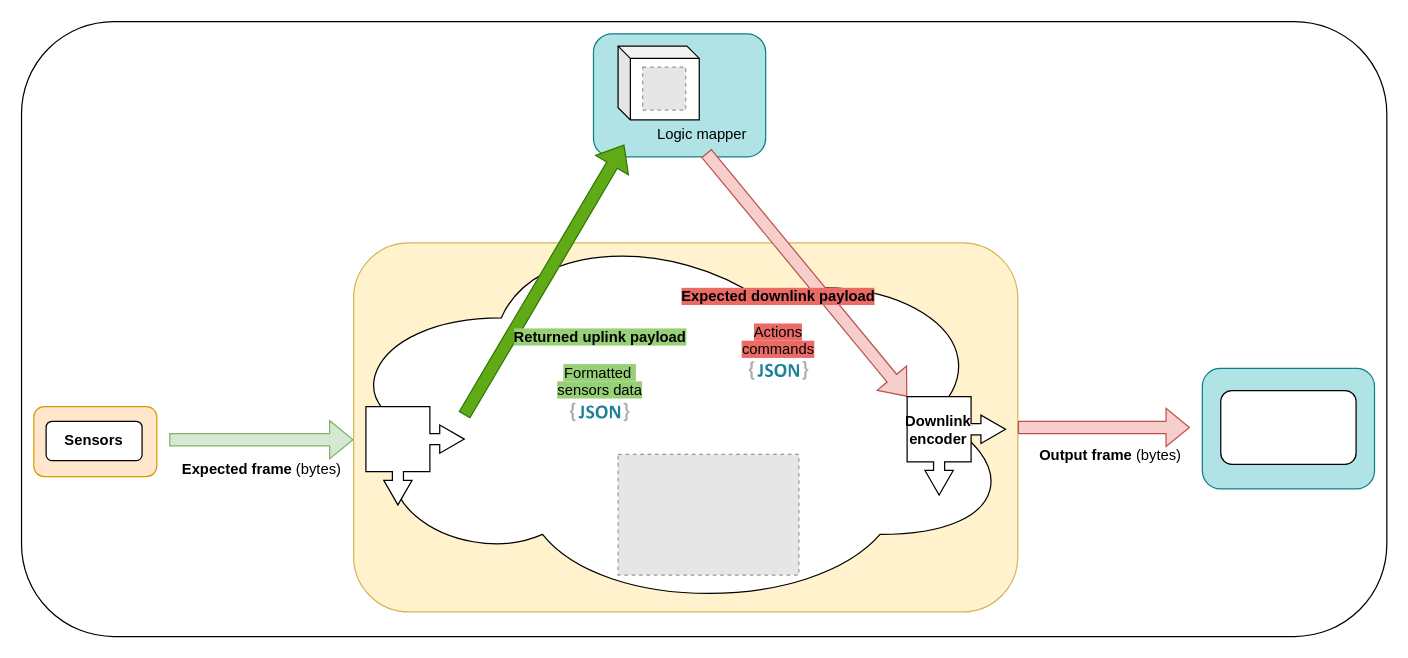
The diagram is 1408 pixels wide and 658 high, and some of its shapes have lost their labels. Grey dashed boxes stand in for pictures. Each missing label, with the box of its shape:
Engines (LED, servos, speakers, ...): (1220, 389, 1356, 464)
Uplink decoder: (365, 405, 464, 505)
